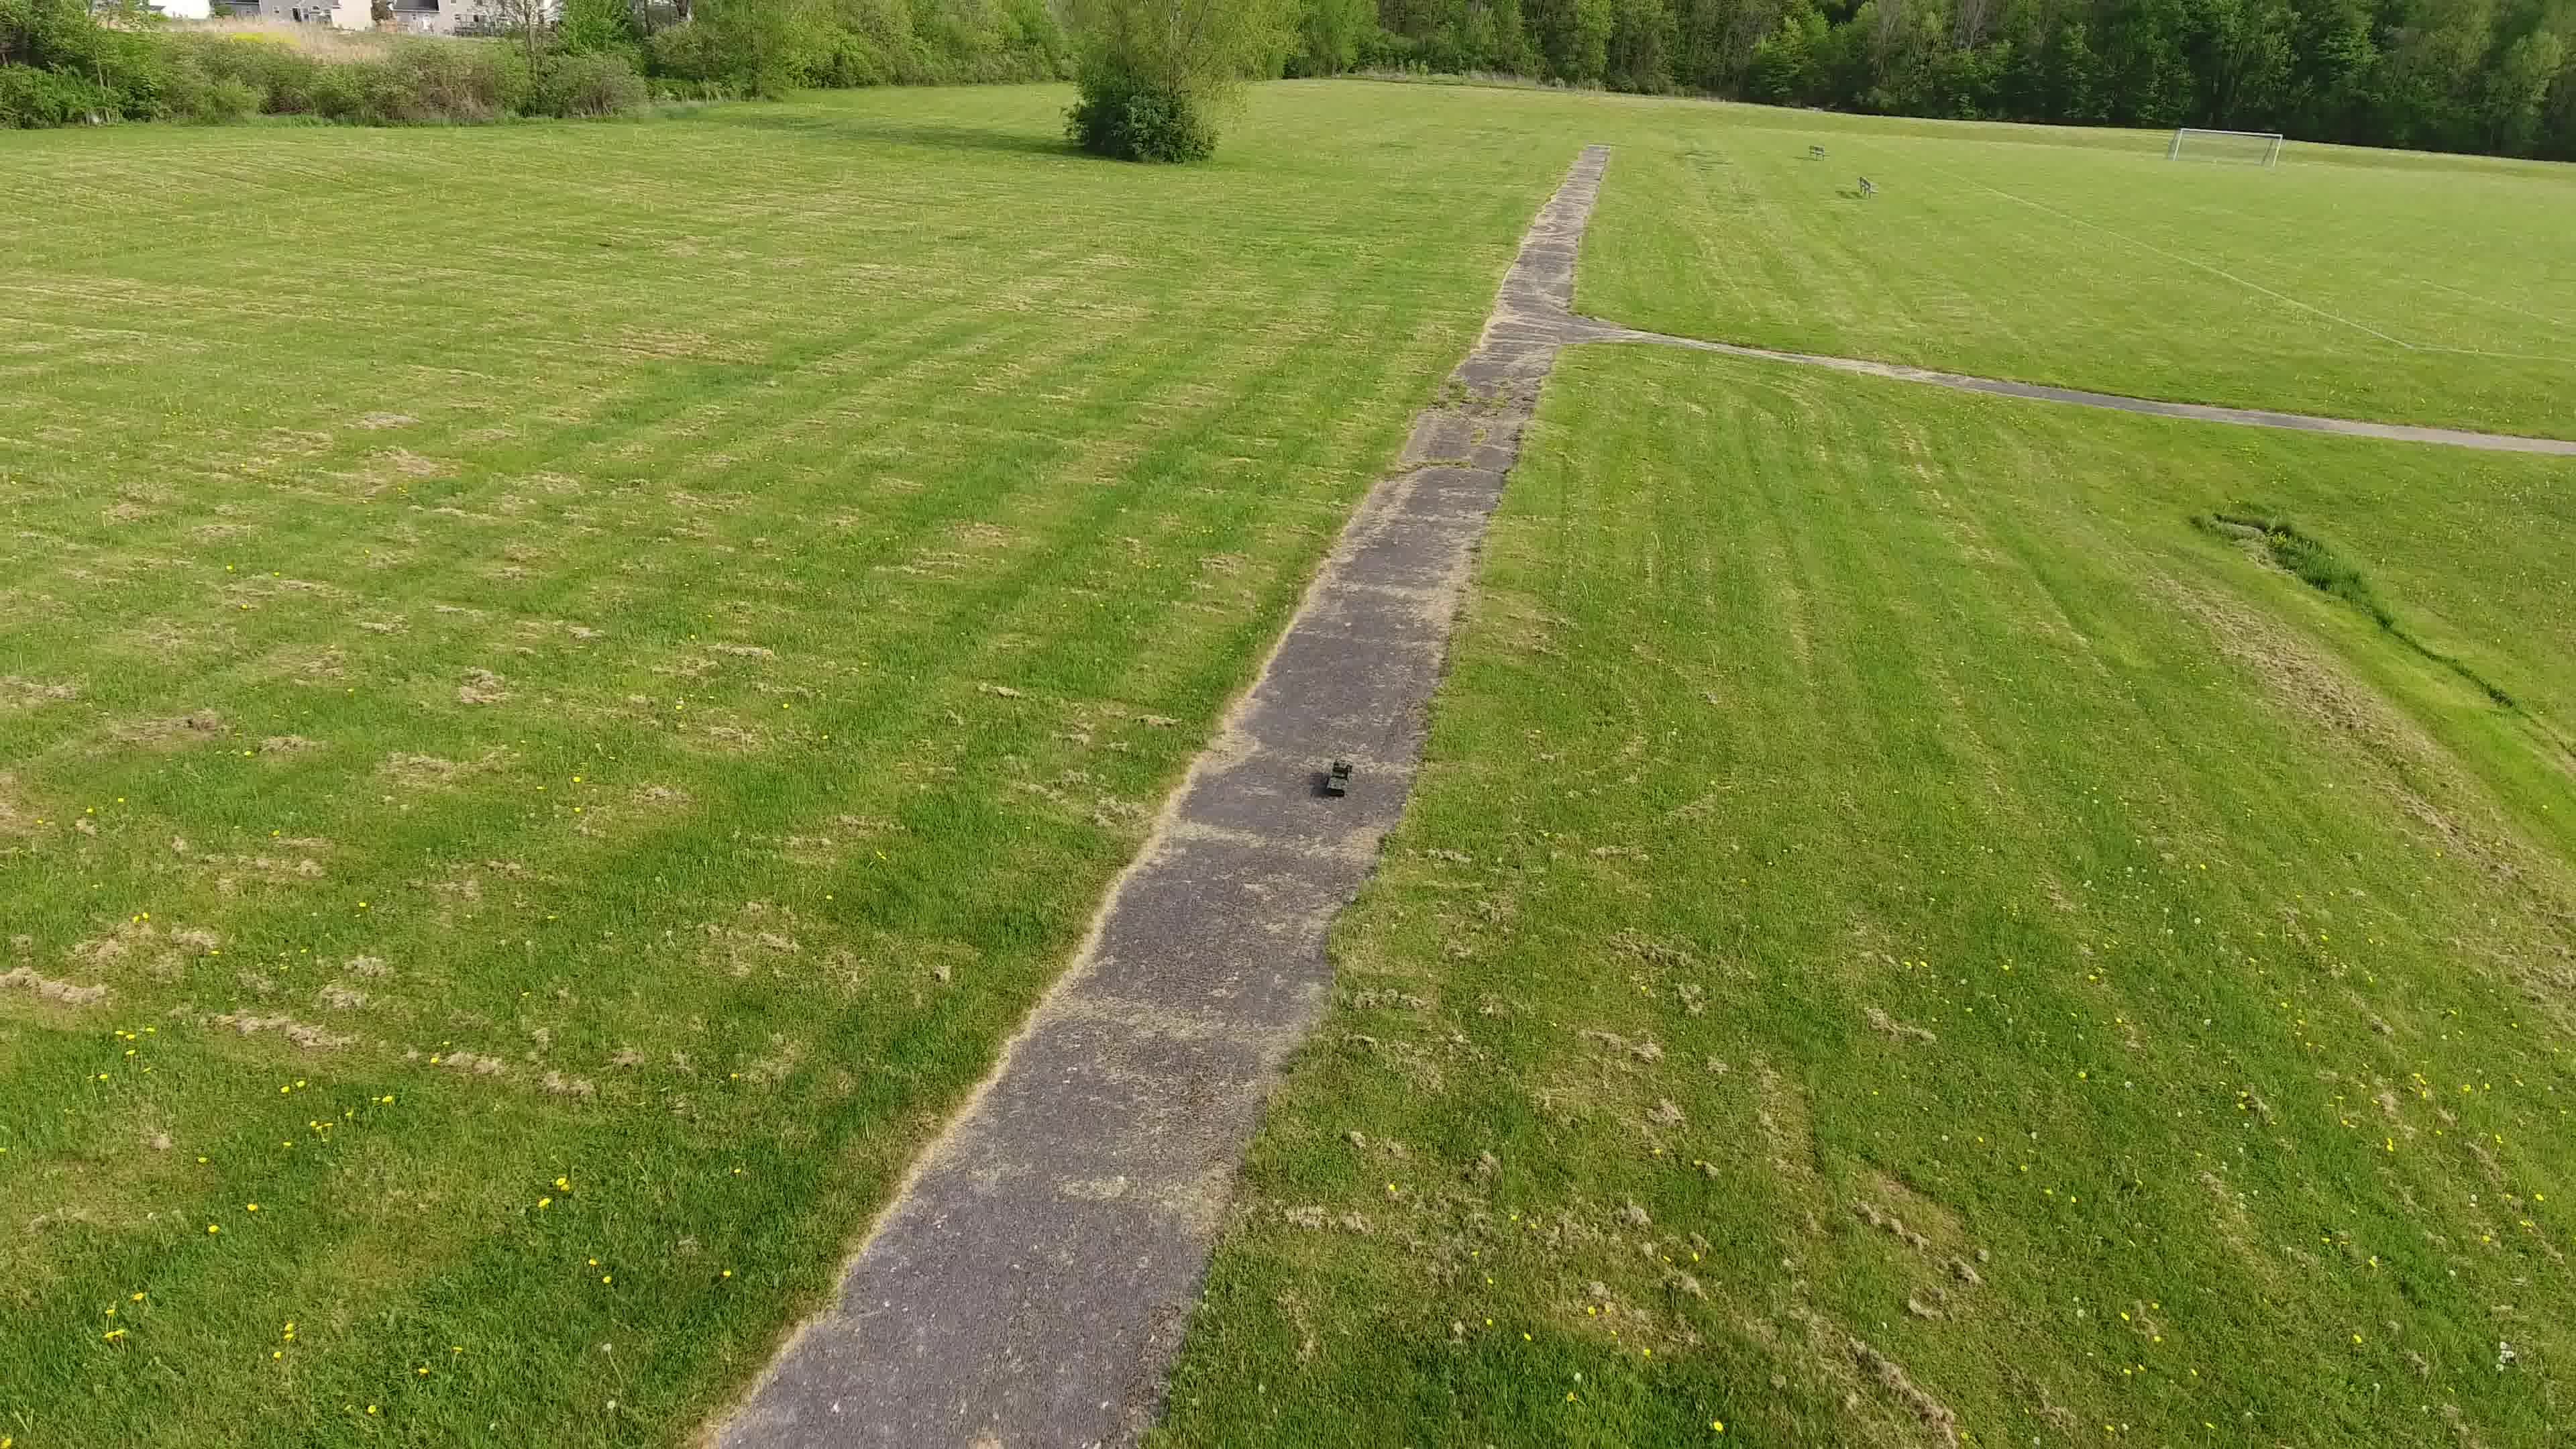transporter9_camo: (1322, 759, 1355, 798)
